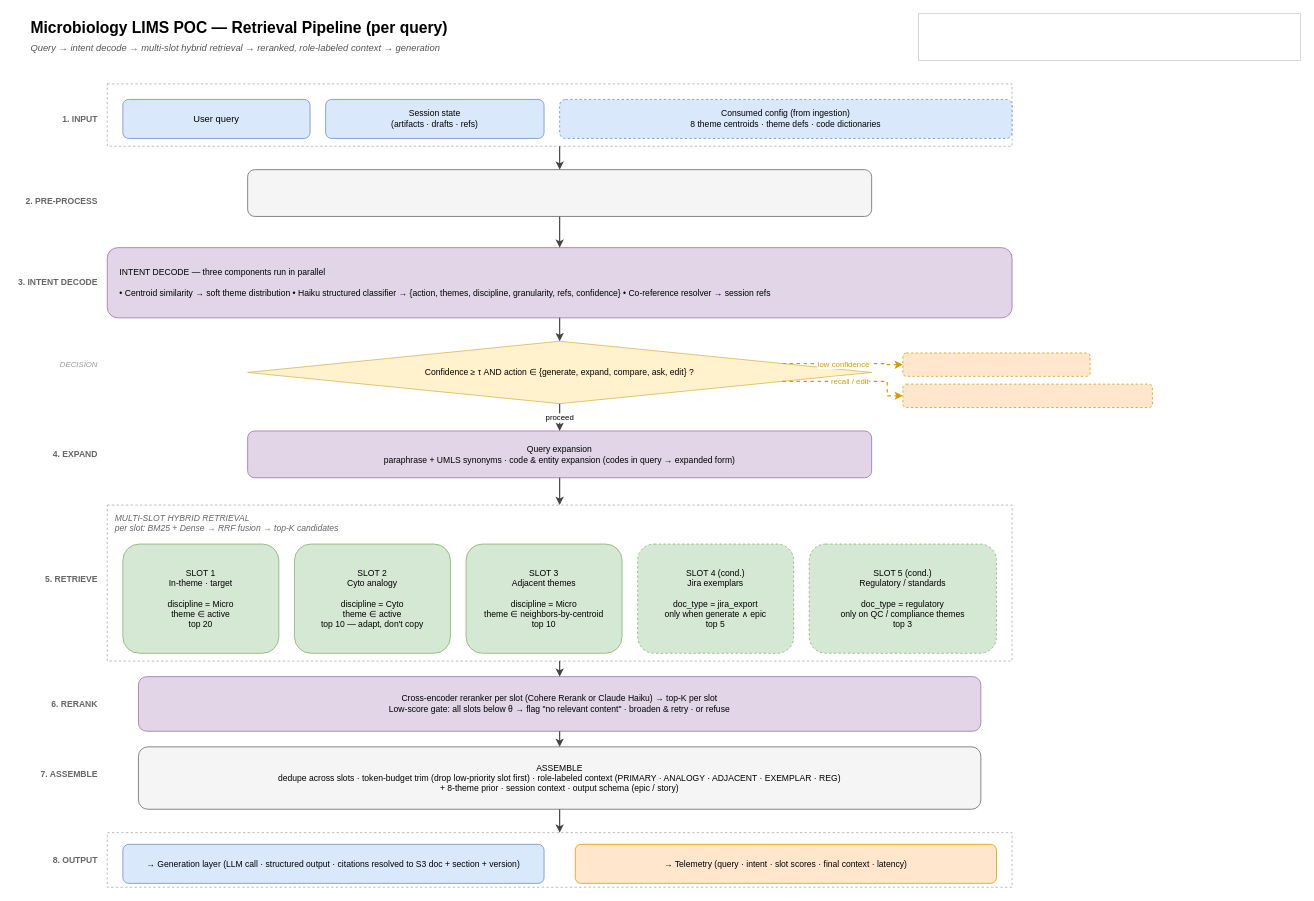
The diagram is 1314 pixels wide and 901 high, and some of its shapes have lost their labels. Here are the shapes that lost their labels. From the top down, the centre of each, then its label:
(x=1109, y=36): LEGEND ■ Source / data ■ Compute ■ AI / LLM ■ Storage ■ Decision ■ Cross-cutting
(x=559, y=192): Normalize · language detect · ref extraction (e.g. "epic 3", @SOP-MICRO-005)
(x=996, y=364): → Clarifying question to user (loop)
(x=1027, y=395): → Session-only path (recall / edit) — bypass corpus
